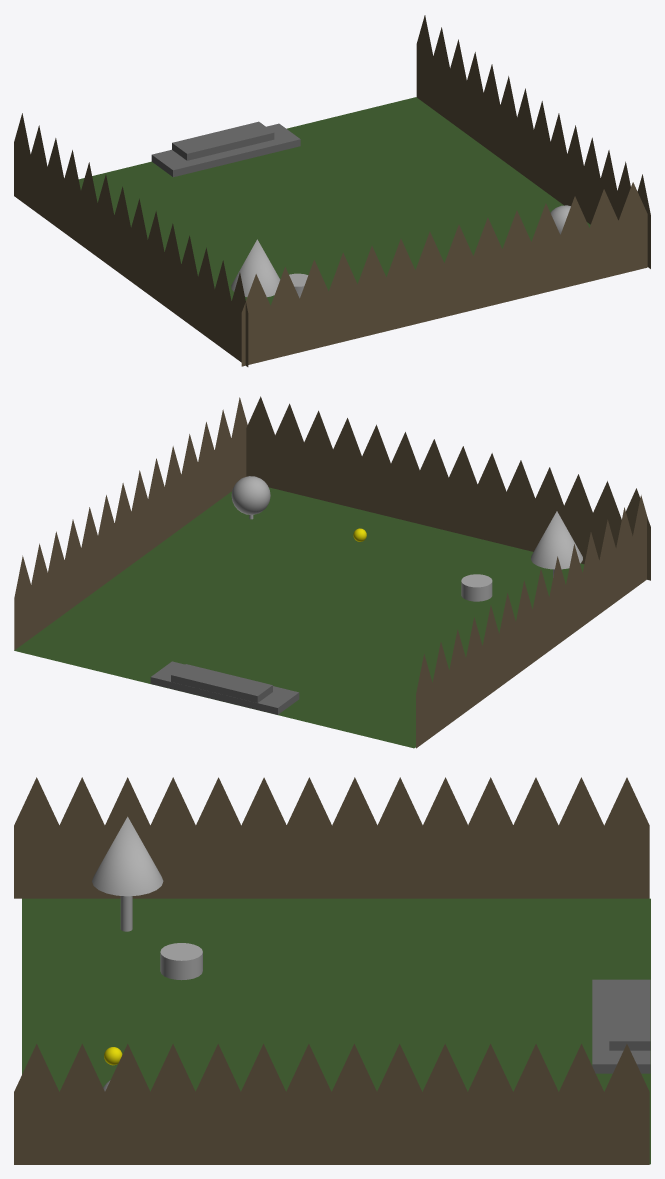
File: backyard.fbx
3 renders of one model, top to bottom at view 1: azimuth 30°, elevation 25°; view 2: azimuth 150°, elevation 25°; view 3: azimuth 270°, elevation 25°, orthographic. The views are drawn at different scales.
Visible parts, largest first — view 1: Ground, pPlane6 (×3), pPlane10 (×3), pPlane7 (×3), pPlane4 (×3), pPlane3 (×3), pPlane8 (×3), pPlane5 (×3), pPlane9 (×3), pPlane2 (×3), pPlane11 (×3), pPlane12 (×3) (+6 smaller); view 2: Ground, pPlane11 (×3), pPlane8 (×3), pPlane5 (×3), pPlane9 (×3), pPlane10 (×3), pPlane3 (×3), pPlane4 (×3), pPlane7 (×3), pPlane6 (×3), pPlane2 (×3), pPlane13 (×3) (+8 smaller); view 3: Ground, pPlane14 (×2), pPlane6 (×2), pPlane13 (×2), pPlane10 (×2), pPlane12 (×2), pPlane15 (×2), pPlane2 (×2), pPlane7 (×2), pPlane9 (×2), pPlane11 (×2), pPlane8 (×2) (+7 smaller).
Boxes of the visible parts, left/top/right/bottom form: Ground: left=78, top=97, right=590, bottom=305; pPlane6 (×3): left=164, top=64, right=531, bottom=317; pPlane10 (×3): left=97, top=113, right=567, bottom=331; pPlane7 (×3): left=147, top=76, right=516, bottom=309; pPlane4 (×3): left=198, top=39, right=589, bottom=342; pPlane3 (×3): left=215, top=27, right=618, bottom=354; pPlane8 (×3): left=131, top=88, right=533, bottom=316; pPlane5 (×3): left=181, top=52, right=560, bottom=330; pPlane9 (×3): left=114, top=101, right=550, bottom=324; pPlane2 (×3): left=231, top=15, right=647, bottom=366; pPlane11 (×3): left=81, top=125, right=583, bottom=338; pPlane12 (×3): left=64, top=137, right=600, bottom=345; Ground: left=14, top=487, right=584, bottom=748; pPlane11 (×3): left=164, top=446, right=535, bottom=699; pPlane8 (×3): left=114, top=439, right=549, bottom=662; pPlane5 (×3): left=64, top=418, right=599, bottom=626; pPlane9 (×3): left=131, top=446, right=532, bottom=674; pPlane10 (×3): left=148, top=453, right=515, bottom=687; pPlane3 (×3): left=31, top=403, right=632, bottom=637; pPlane4 (×3): left=48, top=410, right=615, bottom=625; pPlane7 (×3): left=98, top=432, right=565, bottom=650; pPlane6 (×3): left=81, top=424, right=582, bottom=638; pPlane2 (×3): left=14, top=396, right=647, bottom=650; pPlane13 (×3): left=198, top=422, right=592, bottom=723; Ground: left=22, top=898, right=650, bottom=1164; pPlane14 (×2): left=59, top=777, right=604, bottom=1164; pPlane6 (×2): left=195, top=777, right=467, bottom=1164; pPlane13 (×2): left=105, top=777, right=558, bottom=1164; pPlane10 (×2): left=240, top=777, right=422, bottom=1164; pPlane12 (×2): left=150, top=777, right=513, bottom=1164; pPlane15 (×2): left=14, top=777, right=649, bottom=1164; pPlane2 (×2): left=14, top=777, right=649, bottom=1164; pPlane7 (×2): left=241, top=777, right=422, bottom=1164; pPlane9 (×2): left=286, top=777, right=377, bottom=1164; pPlane11 (×2): left=195, top=777, right=468, bottom=1164; pPlane8 (×2): left=286, top=777, right=376, bottom=1164.
Bounding box in the file's own units: 1068 × 225 × 1068.
